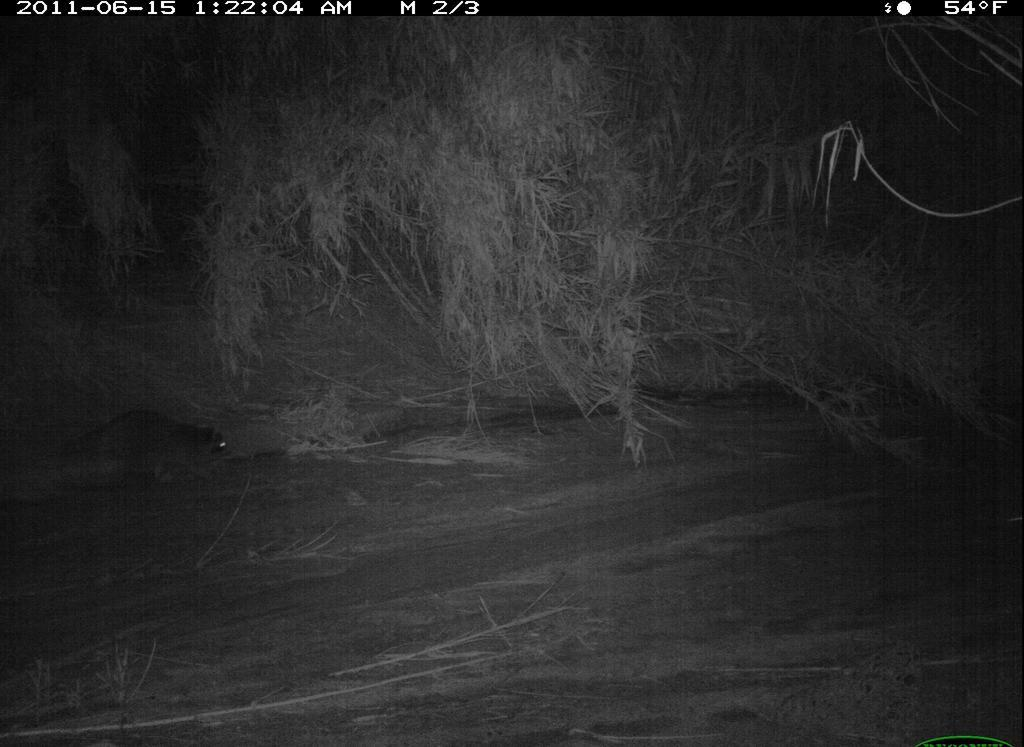raccoon: (45, 410, 246, 496)
